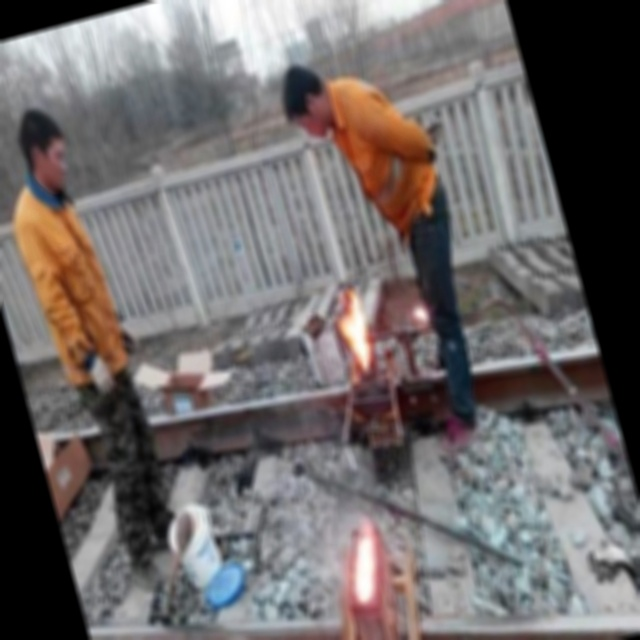Sin_Casco_Mascarrilla: (11, 102, 79, 194), (276, 58, 338, 143)
